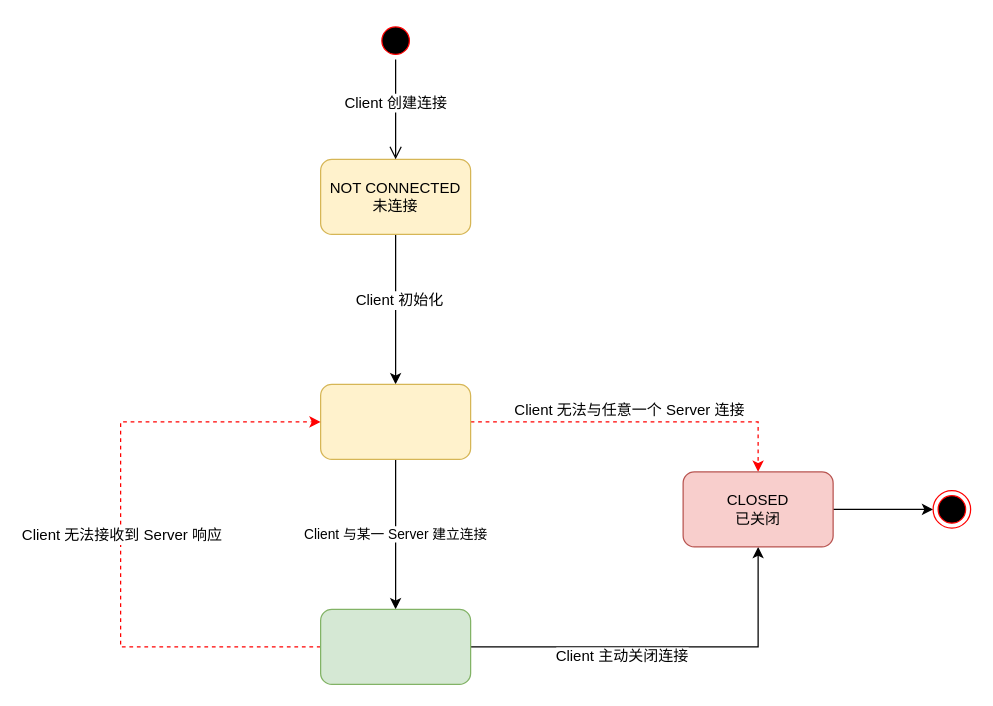
The diagram is 993 pixels wide and 706 high, and some of its shapes have lost their labels. Each missing label, with the centre of its shape:
"CONNECTED 已连接" goes at [395,646].
"CONNECTING 连接中" goes at [395,421].
